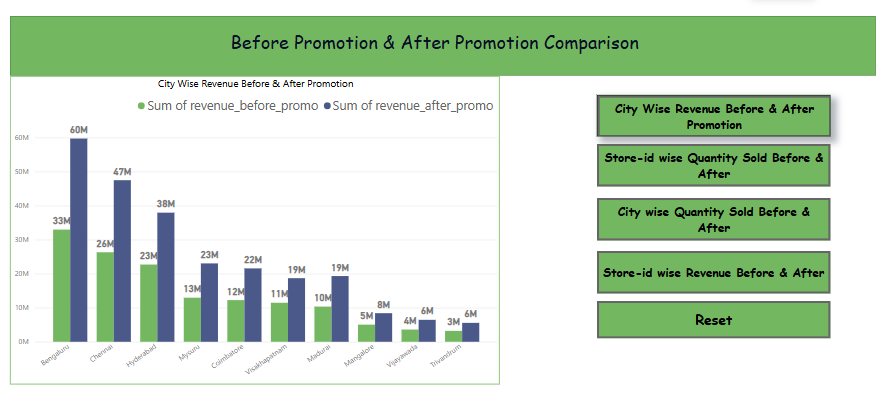

Layout of this report page (visuals, bound fields, positions):
{"tool":"powerbi","page":{"name":"Page 3","canvas":[1280,720],"ordinal":3},"visuals":[{"type":"shape","box":[0,28.4,1280.2,88.1],"z":0},{"type":"textbox","box":[321.2,43.3,639.3,59.8],"z":1000},{"type":"clusteredColumnChart","title":"City Wise Revenue Before & After Promotion","fields":{"Category":["dim_stores.city"],"Y":["Sum(fact_events.revenue_before_promo)","Sum(fact_events.revenue_after_promo)"]},"box":[0,116.5,724.5,455.6],"z":4000},{"type":"actionButton","box":[867.9,144.9,345.1,61.2],"z":6000},{"type":"actionButton","box":[867.9,374.9,345.1,62.7],"z":7000},{"type":"actionButton","box":[867.9,297.3,345.1,62.7],"z":8000},{"type":"actionButton","box":[867.9,216.6,345.1,62.7],"z":9000},{"type":"actionButton","box":[867.9,449.6,345.1,55.3],"z":10000}]}

Visuals, with their boxes on the page's 1280x720 design canvas (x1, y1, x2, y2). These are canvas units, not pixel positions in the 890x406 screenshot, which may show the page scaled, cropped or inside an application window:
shape: <box>0,28,1280,116</box>
textbox: <box>321,43,960,103</box>
"City Wise Revenue Before & After Promotion" clusteredColumnChart: <box>0,116,724,572</box>
actionButton: <box>868,145,1213,206</box>
actionButton: <box>868,375,1213,438</box>
actionButton: <box>868,297,1213,360</box>
actionButton: <box>868,217,1213,279</box>
actionButton: <box>868,450,1213,505</box>
